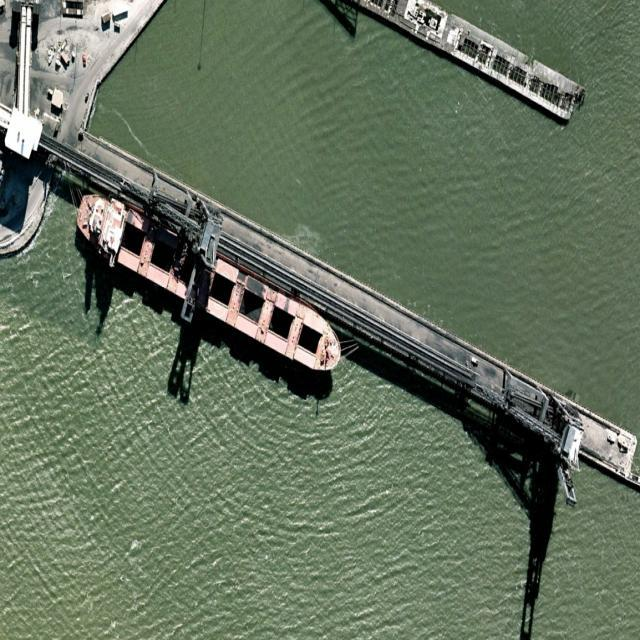Cargo: (69, 186, 348, 380)
